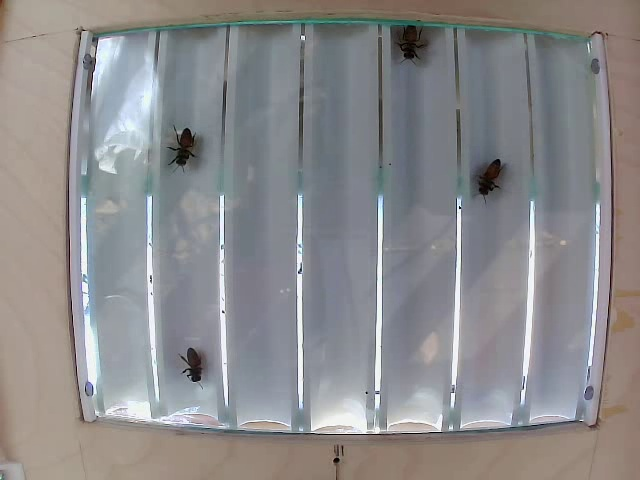bee: (380, 22, 432, 70), (163, 115, 205, 173), (465, 165, 511, 210), (175, 340, 218, 385)
